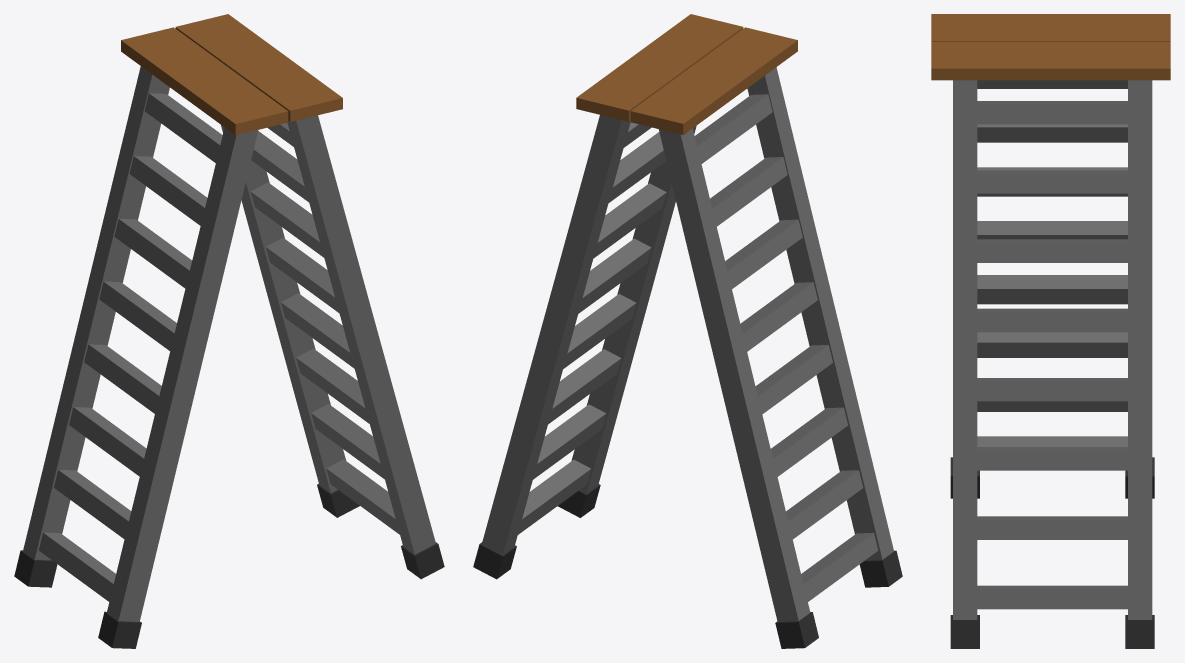
3 renders of one model, left to right at view 1: azimuth 30°, elevation 25°; view 2: azimuth 150°, elevation 25°; view 3: azimuth 270°, elevation 25°, orthographic. The views are drawn at different scales.
Parts seen in each view (by area): view 1: G-14; view 2: G-14; view 3: G-14.
Boxes of the visible parts, <box> form: G-14: <box>14,14,444,648</box>; G-14: <box>473,14,902,648</box>; G-14: <box>931,14,1170,648</box>.
Bounding box in the file's own units: 401 × 587 × 240.
